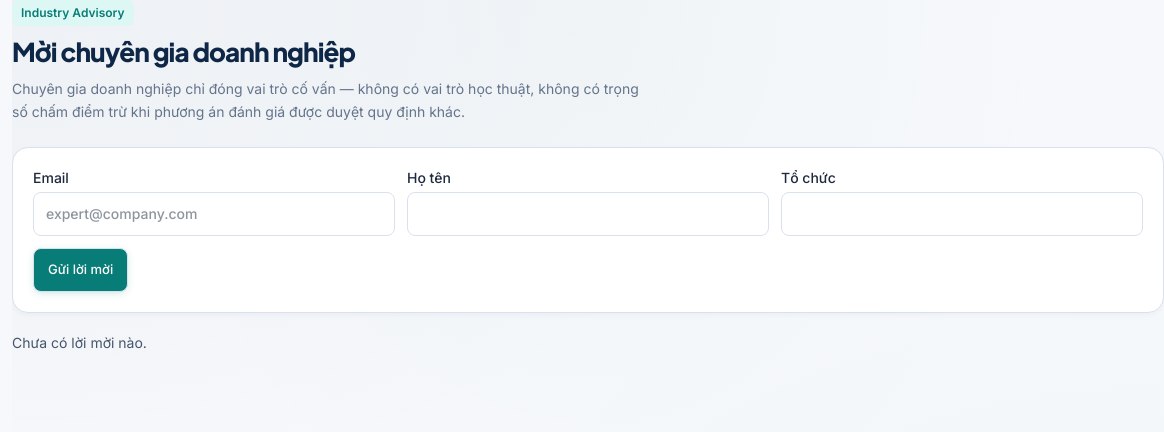
AdminIndustryInvitationsPage › surfaces a clear message when the email already belongs to another identity (409)
Expected: the text "Chưa có lời mời nào." is shown, [12, 334, 147, 351]
Type "taken@company.com" into the field with placeholder "expert@company.com" at (214, 214), box [33, 192, 395, 236]
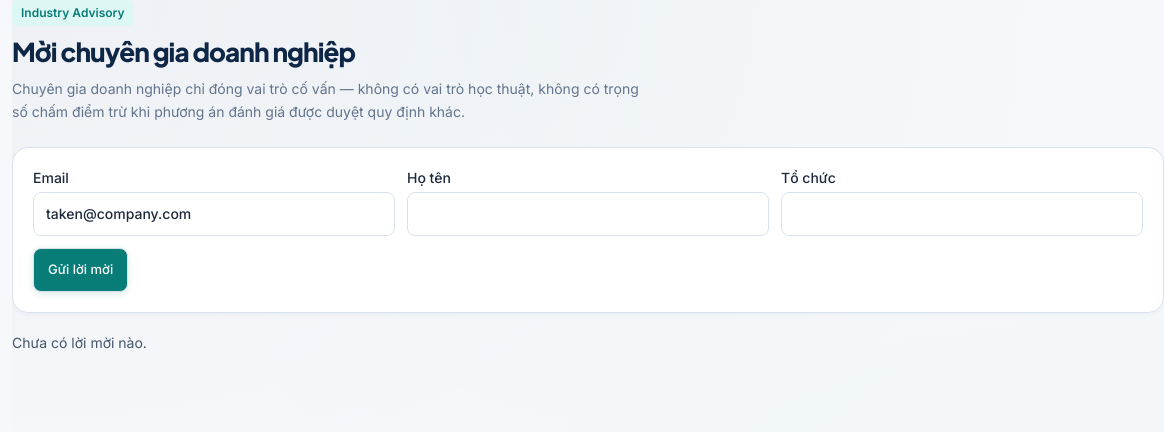
Type "A" into the field labelled "Họ tên" at (588, 214), box [407, 192, 769, 236]
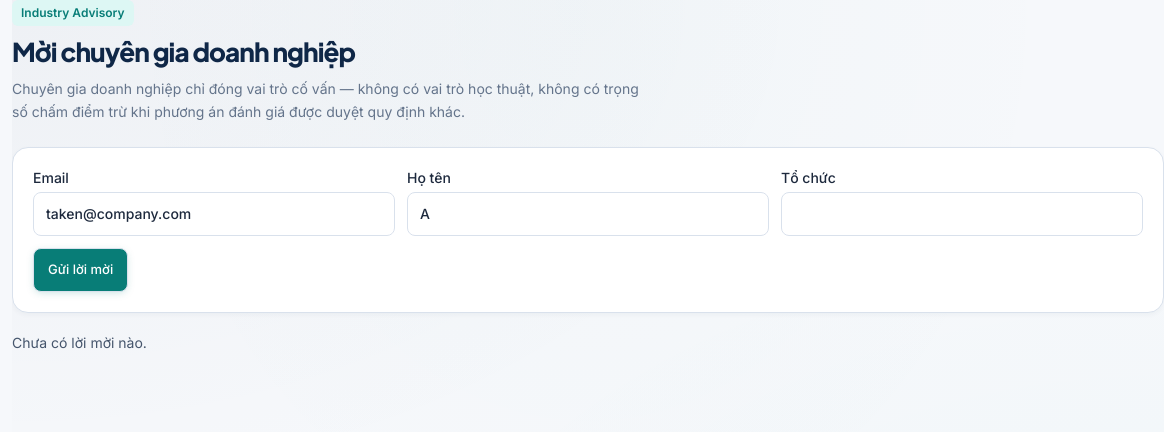
Type "B" into the field labelled "Tổ chức" at (962, 214), box [781, 192, 1143, 236]
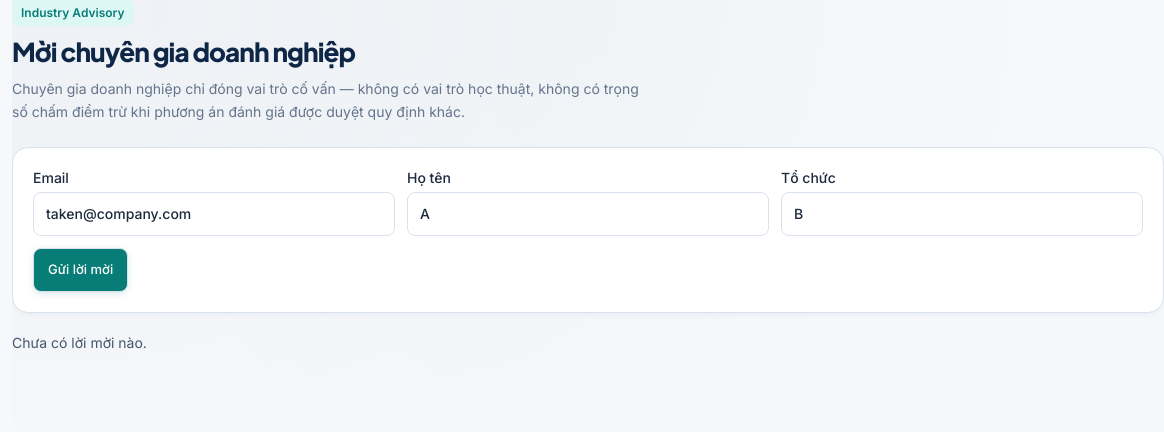
Click the button "Gửi lời mời" at (81, 270), box [33, 248, 128, 292]
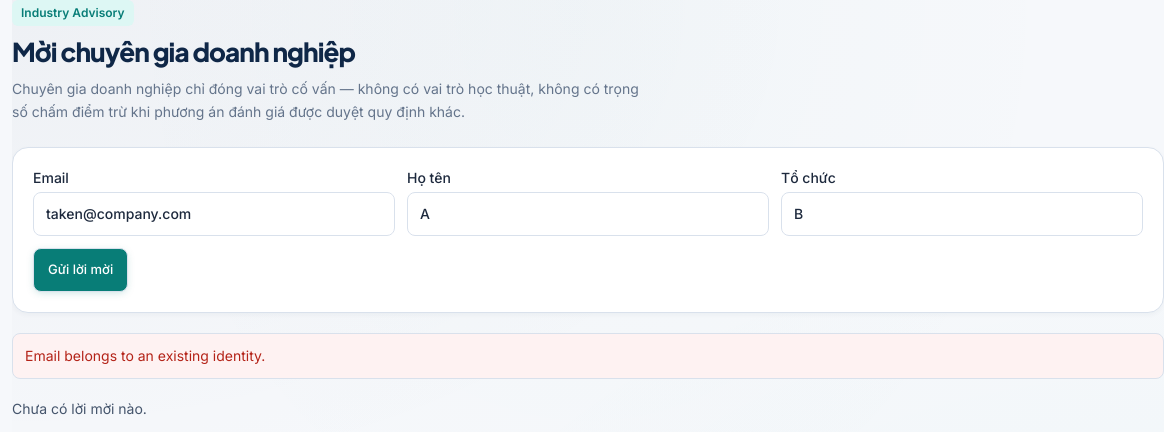
Now the message reads "Email belongs to an existing identity.", box [25, 347, 265, 364]
